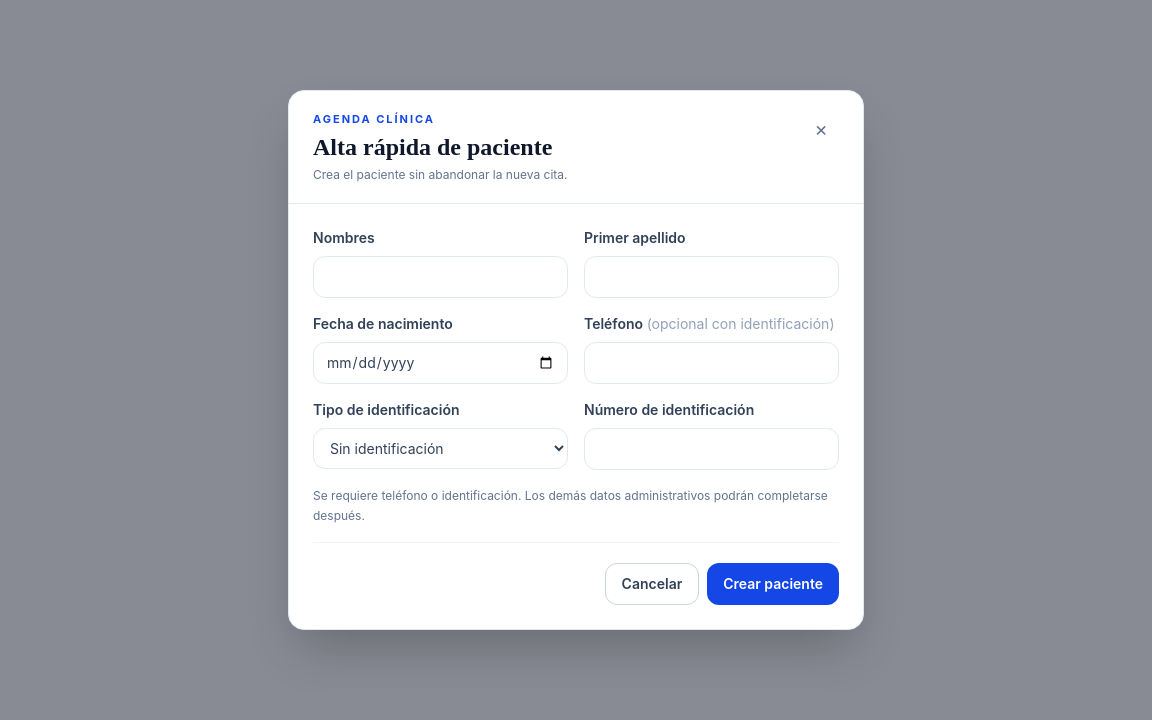
PatientQuickCreateDialog › shows duplicate-check errors and keeps the quick form open
Type "Ana" into the field labelled "Nombres".
click(440, 277); type("Ana")  # box [313, 256, 568, 298]
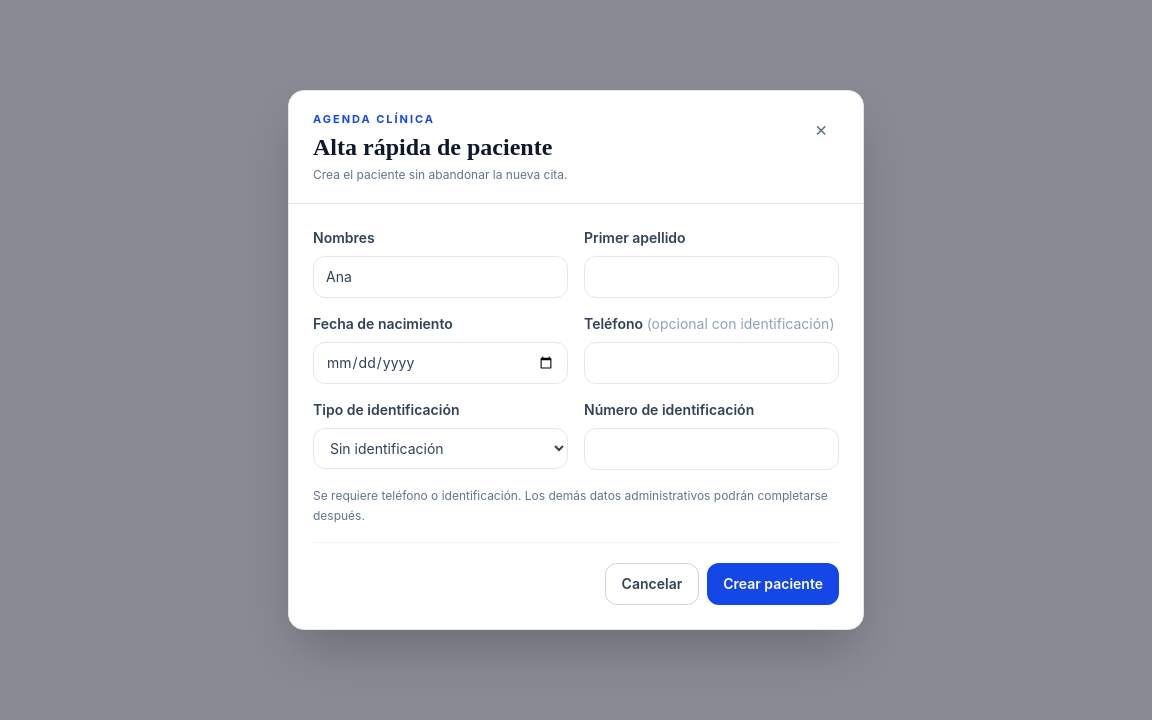
Type "López" into the field labelled "Primer apellido".
click(712, 277); type("López")  # box [584, 256, 839, 298]
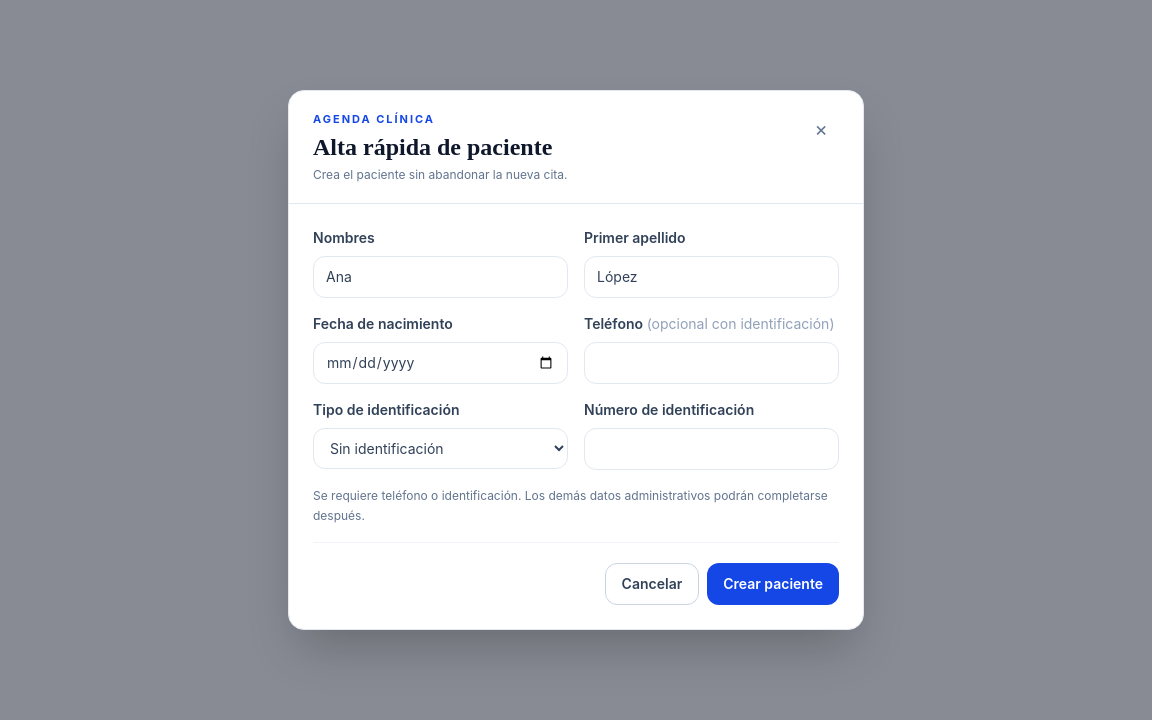
Type "1990-05-10" into the date field labelled "Fecha de nacimiento".
click(440, 363); type("1990-05-10")  # box [313, 342, 568, 384]
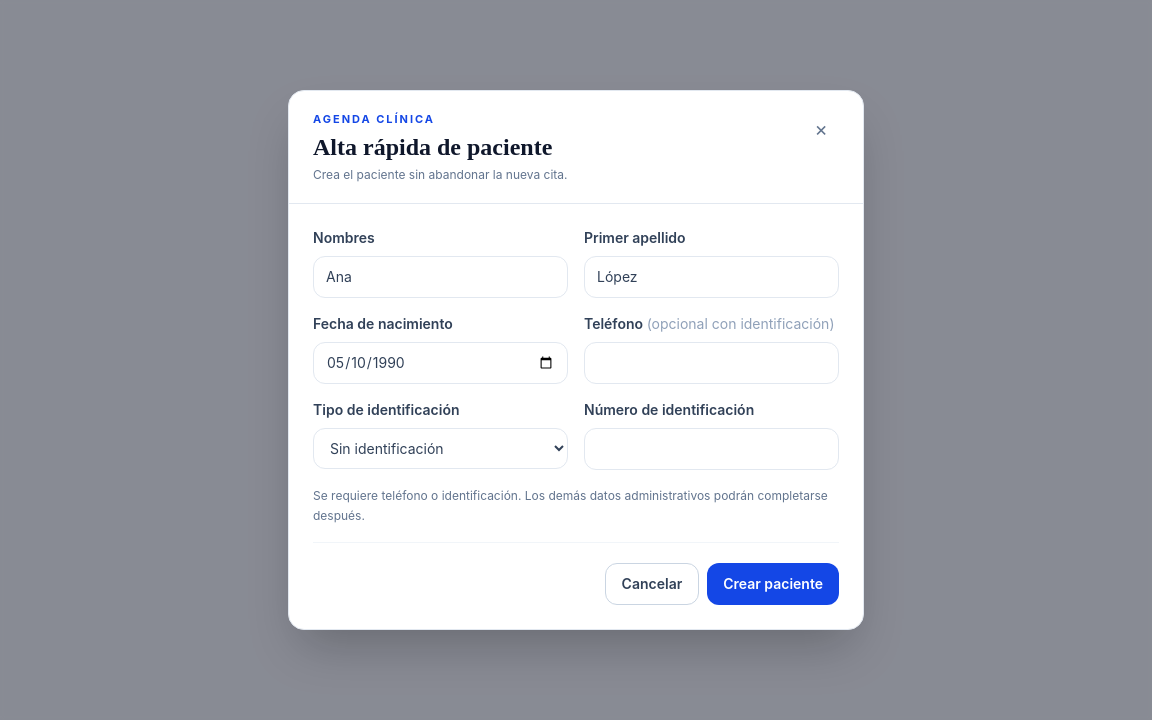
Type "8888-1111" into the field labelled "Teléfono".
click(712, 363); type("8888-1111")  # box [584, 342, 839, 384]
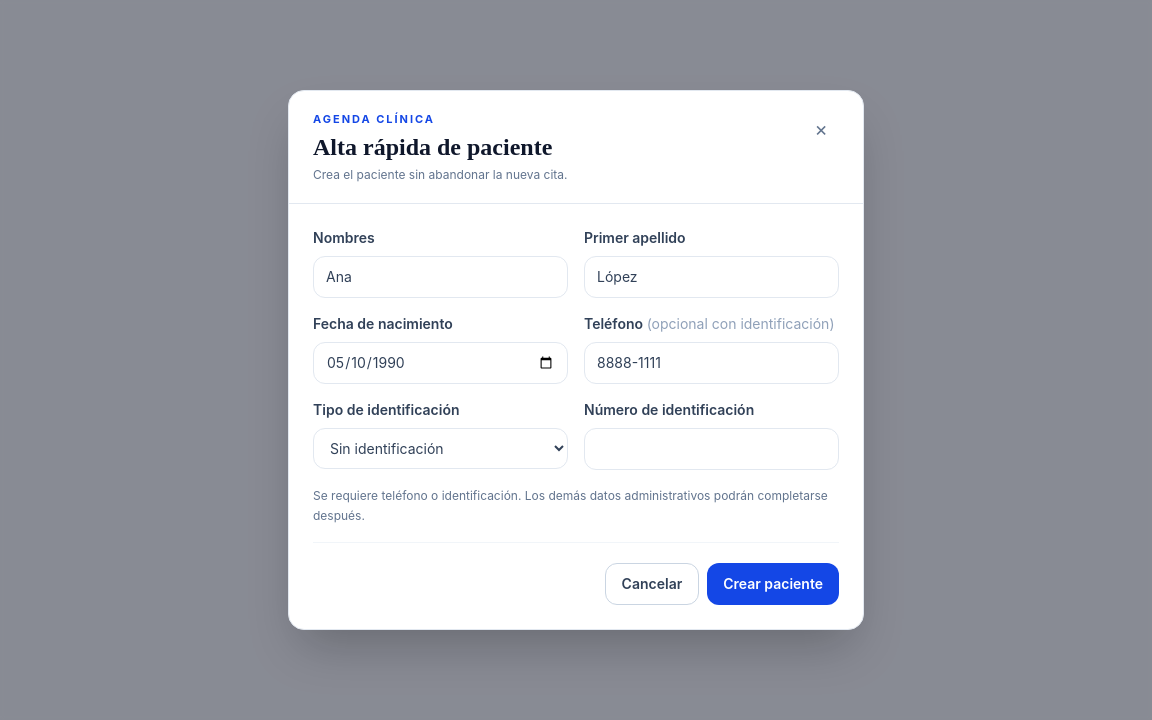
Click the button "Crear paciente".
click(773, 584)  # box [707, 563, 839, 605]
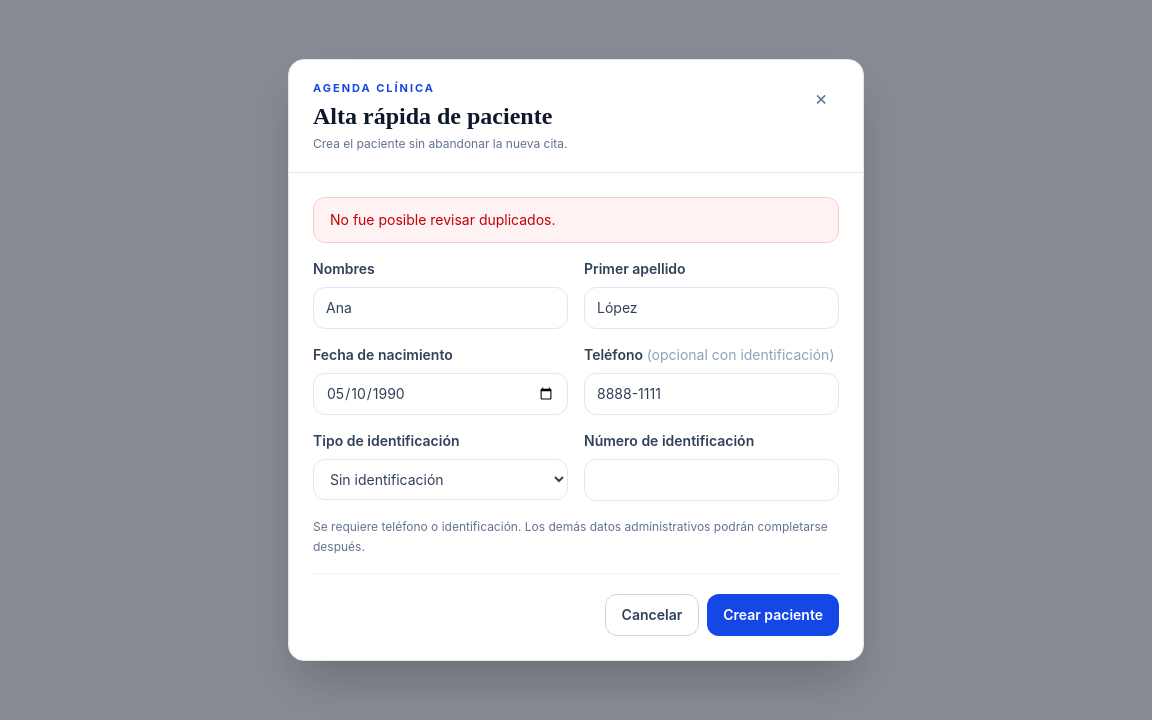
Expected: the dialog "Alta rápida de paciente" is shown, [288, 59, 864, 661]
Expected: the message reads "No fue posible revisar duplicados.", [330, 211, 556, 228]
